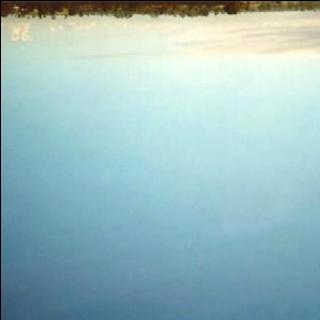Stratocumulus: (0, 16, 320, 58)
